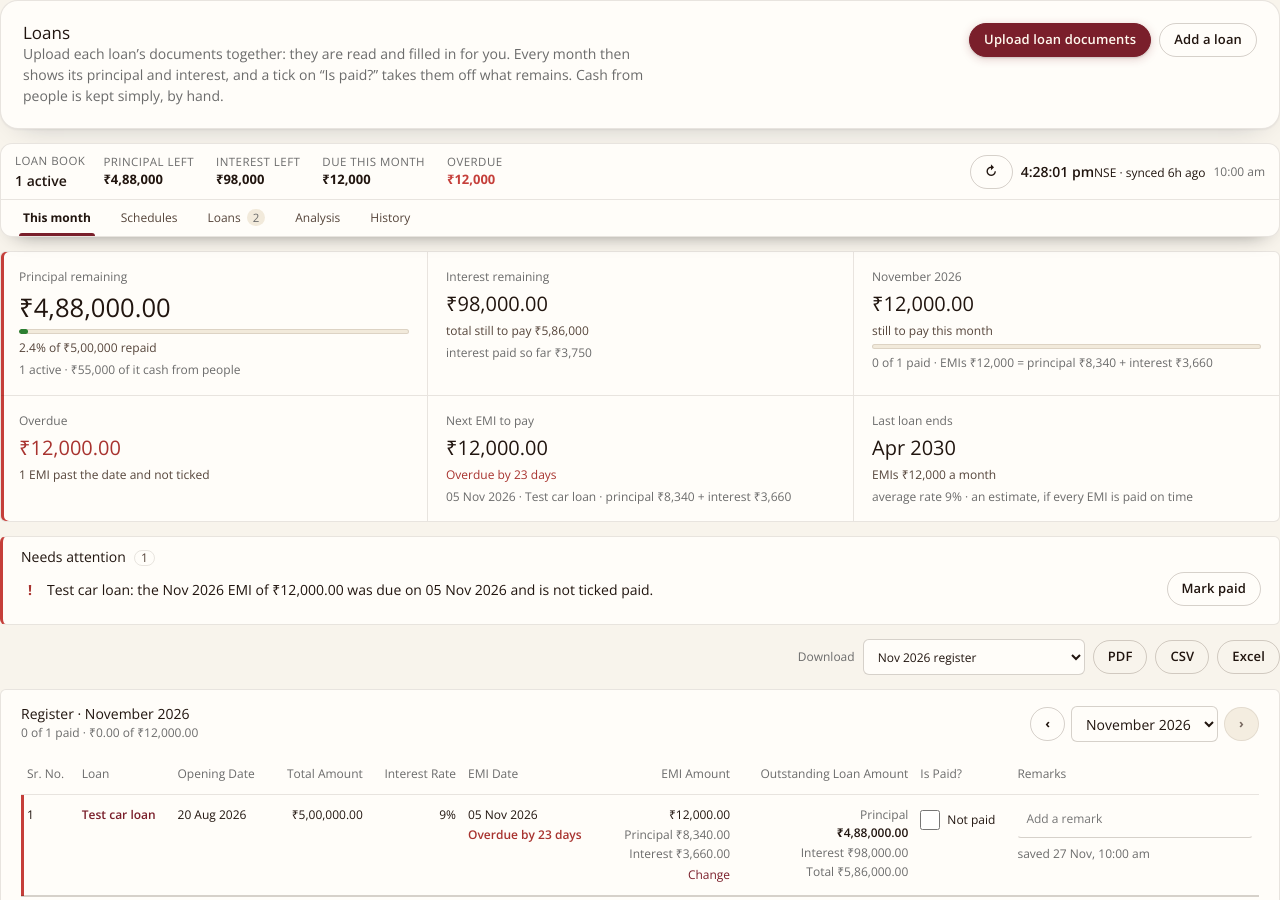
Scenario: cash from a person has only its own few things: no rate, no EMI, no months
Later steps or results of the test are not shown.
Click the button "Add a loan" at (1208, 40), box [1159,23,1257,57]
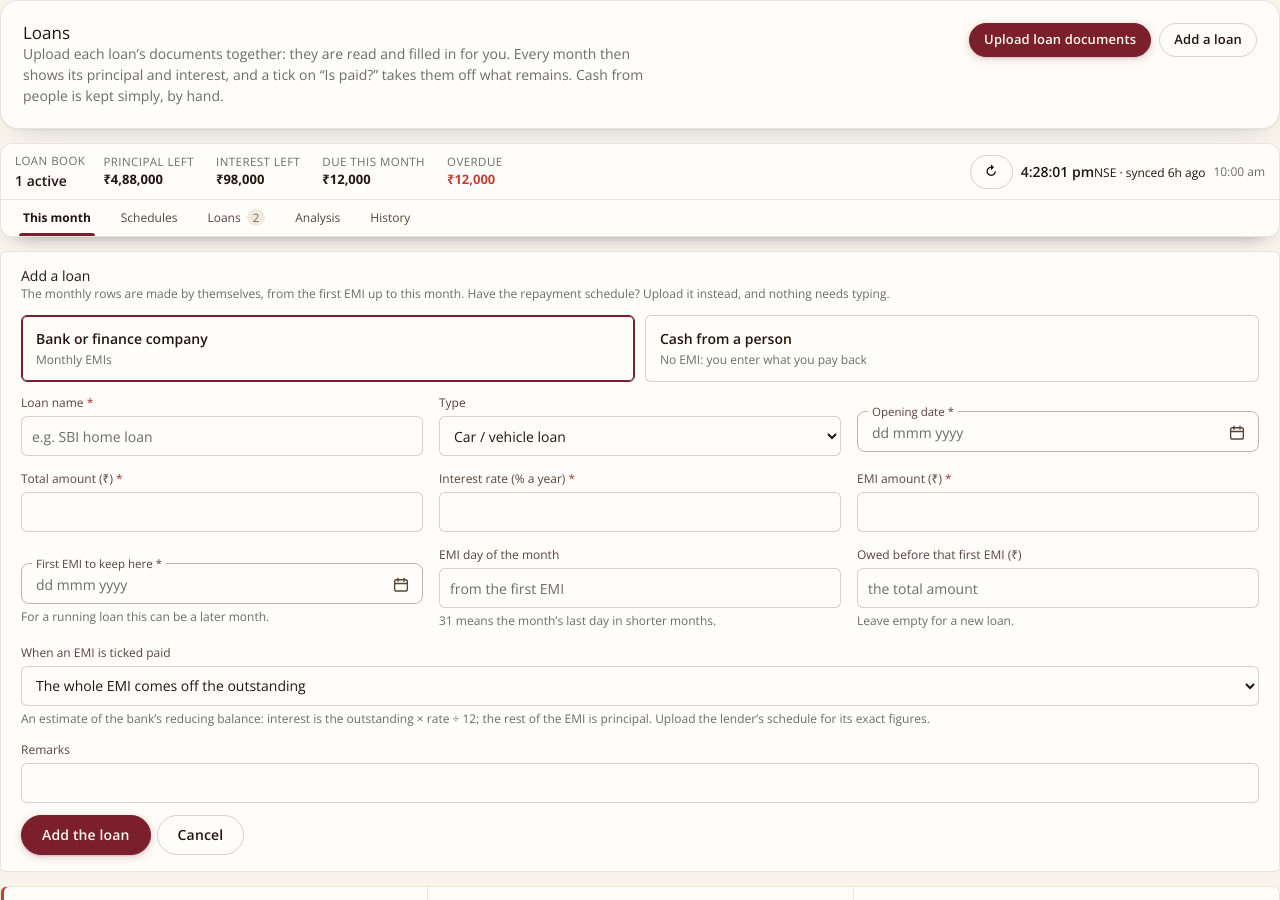
Click the button "Cash from a person No EMI: you enter what you pay back" at (726, 339), box [645,315,1259,382]
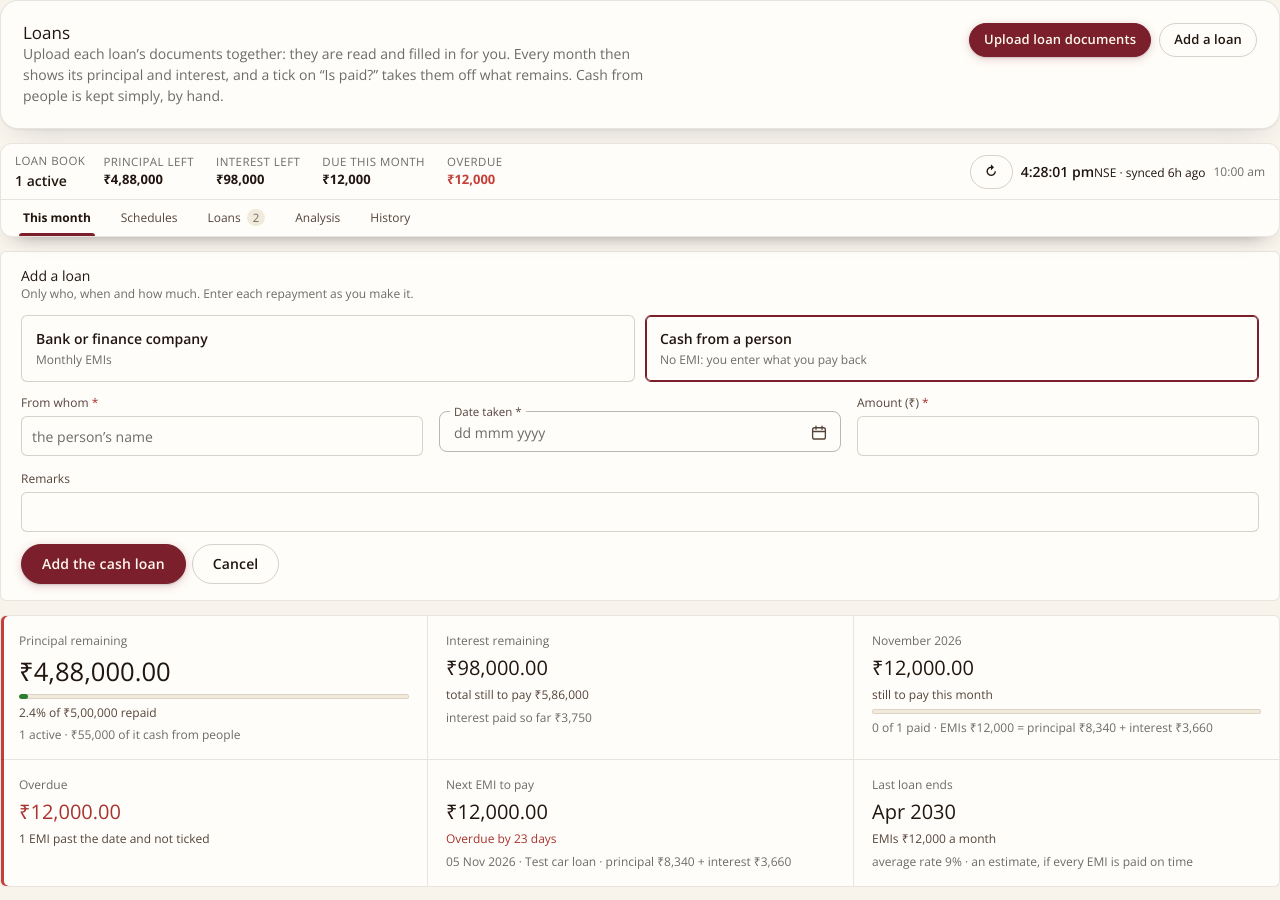
Check: the form "Add a loan" shows "From whom", box [21,394,88,411]
